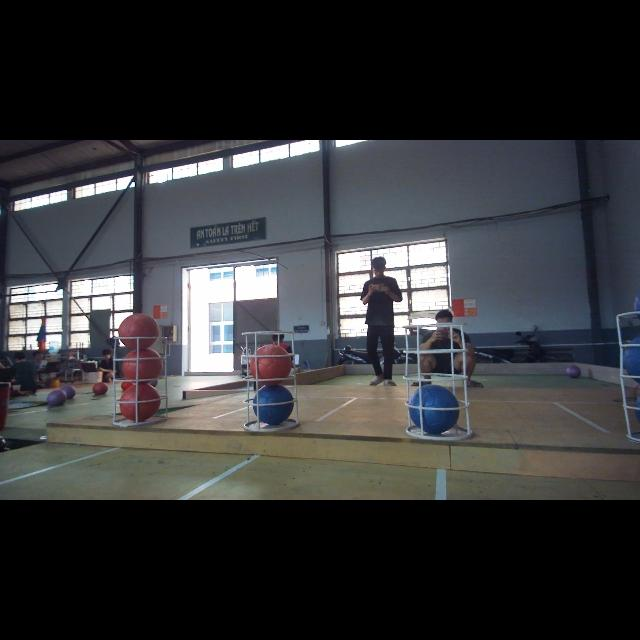B: (410, 384, 460, 434), (252, 385, 294, 427)
R: (250, 344, 294, 386), (120, 384, 160, 422), (119, 314, 159, 350), (122, 350, 162, 382)
